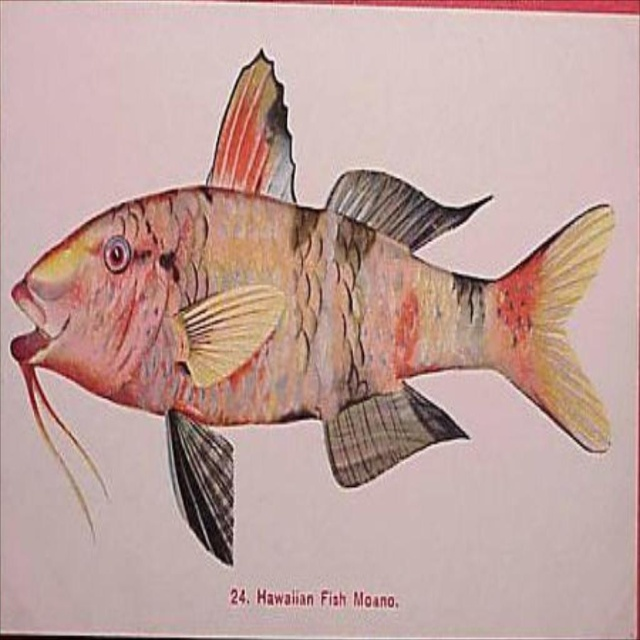Fish: (9, 45, 617, 568)
